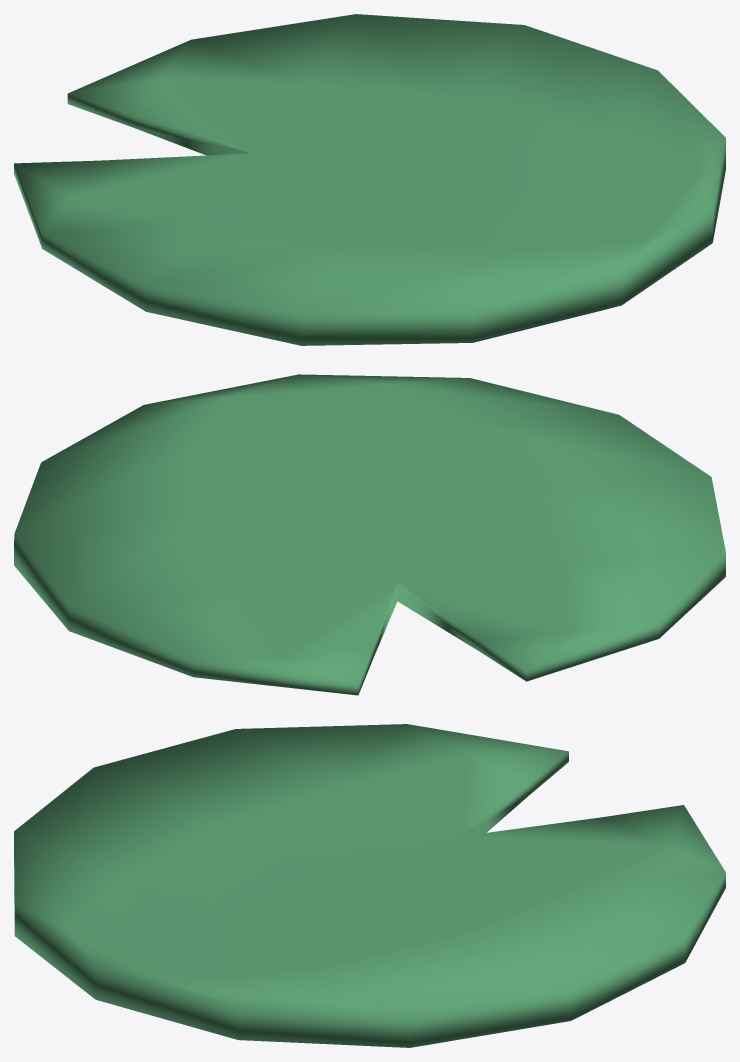
File: lilypad2.fbx
3 views of the same model, one above another, from view 1: azimuth 30°, elevation 25°; view 2: azimuth 150°, elevation 25°; view 3: azimuth 270°, elevation 25° (orthographic).
Visible parts, largest first — view 1: lilypad2; view 2: lilypad2; view 3: lilypad2.
Boxes of the visible parts, x1=… form: lilypad2: x1=14, y1=14, x2=725, y2=345; lilypad2: x1=14, y1=374, x2=725, y2=695; lilypad2: x1=14, y1=724, x2=725, y2=1047.
Size of the model in its own units: 197 by 10.79 by 195.
